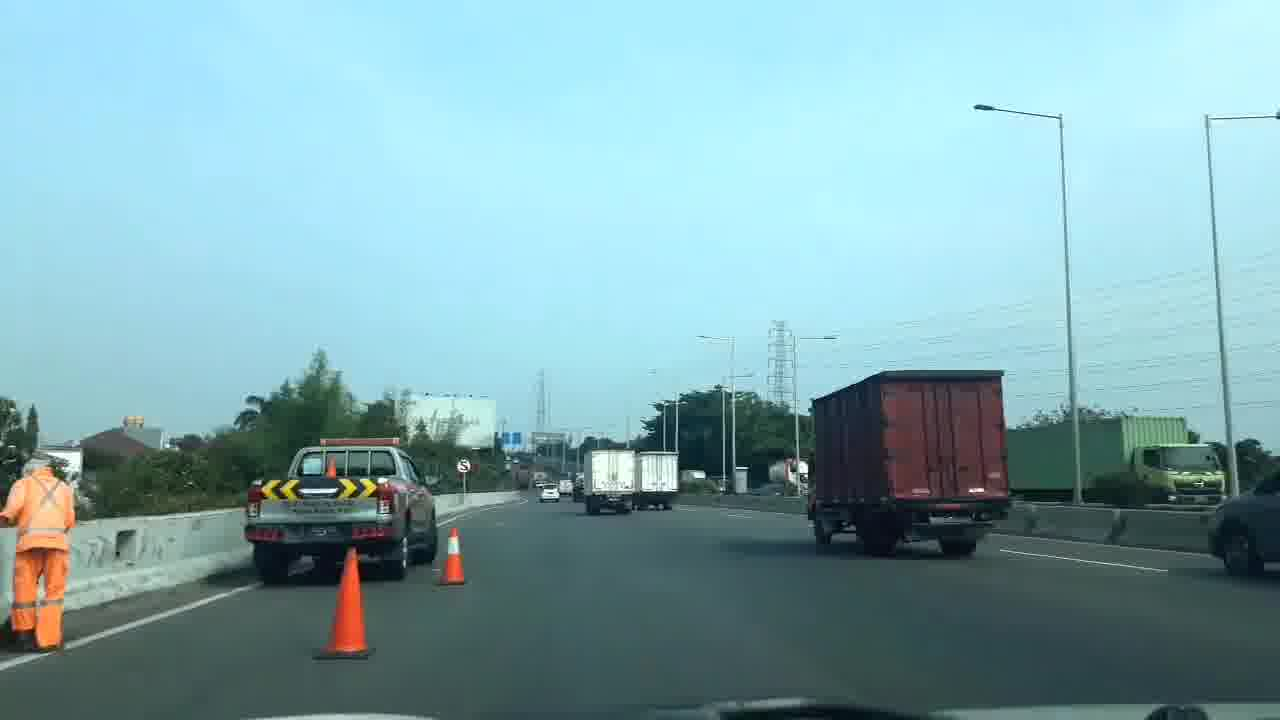plate_positive: (930, 512, 970, 524)
